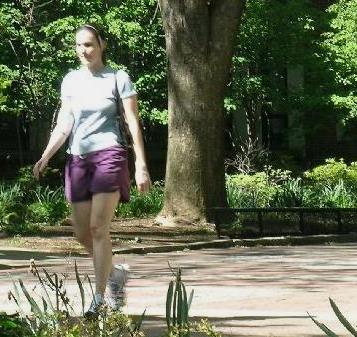pedestrian: (33, 24, 152, 320)
